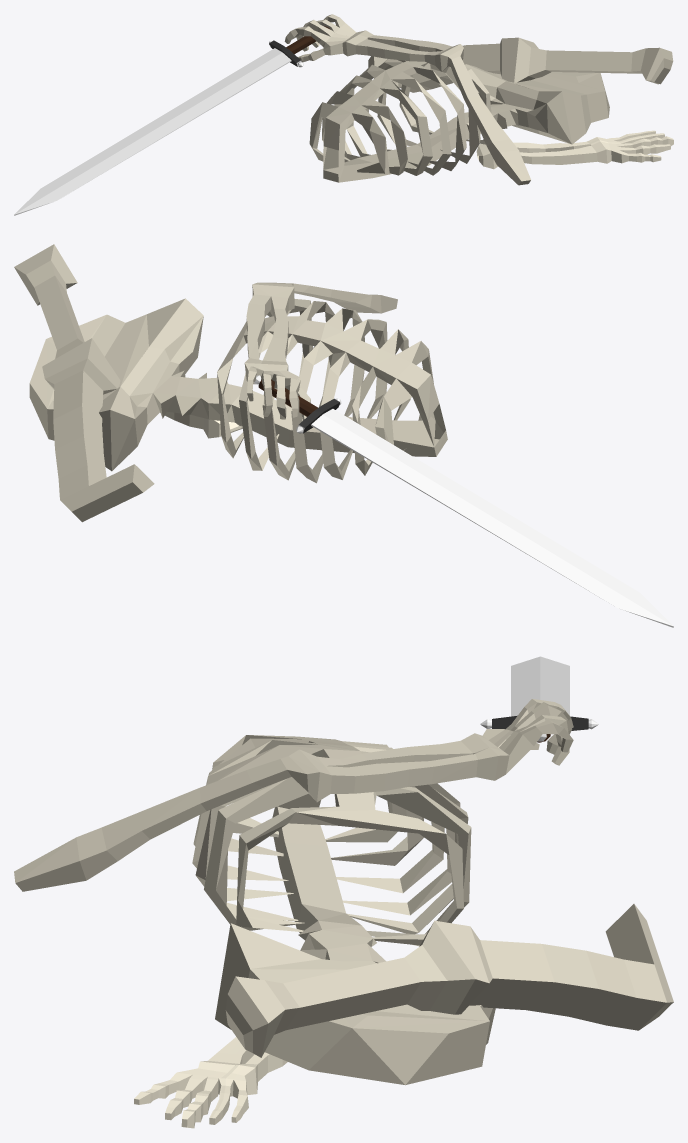
Rendered from pile w sword.fbx.
3 renders of one model, top to bottom at view 1: azimuth 30°, elevation 25°; view 2: azimuth 150°, elevation 25°; view 3: azimuth 270°, elevation 25°, orthographic. The views are drawn at different scales.
Parts seen in each view (by area): view 1: Cube, arm_right, Cube.001, leg_right, arm_right.002; view 2: Cube, leg_right, Cube.001, arm_right, arm_right.002; view 3: Cube, leg_right, arm_right, arm_right.002, Cube.001.
Boxes of the visible parts, x1,y1,x2,y2 form: Cube: (309, 59, 609, 182); arm_right: (284, 14, 530, 185); Cube.001: (14, 22, 335, 215); leg_right: (368, 37, 673, 92); arm_right.002: (476, 130, 673, 169); Cube: (29, 298, 447, 483); leg_right: (14, 244, 154, 522); Cube.001: (254, 375, 673, 627); arm_right: (244, 282, 397, 420); arm_right.002: (165, 411, 242, 438); Cube: (192, 735, 495, 1085); leg_right: (225, 904, 673, 1057); arm_right: (14, 698, 573, 891); arm_right.002: (134, 1037, 287, 1128); Cube.001: (480, 656, 598, 742).
Bounding box in the file's own units: 257 × 52.87 × 142.
